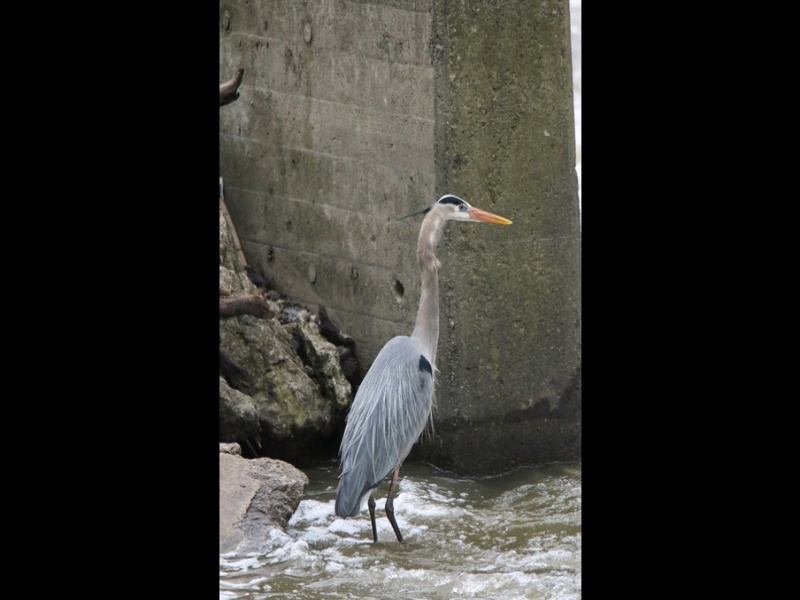heron: (331, 189, 518, 554)
